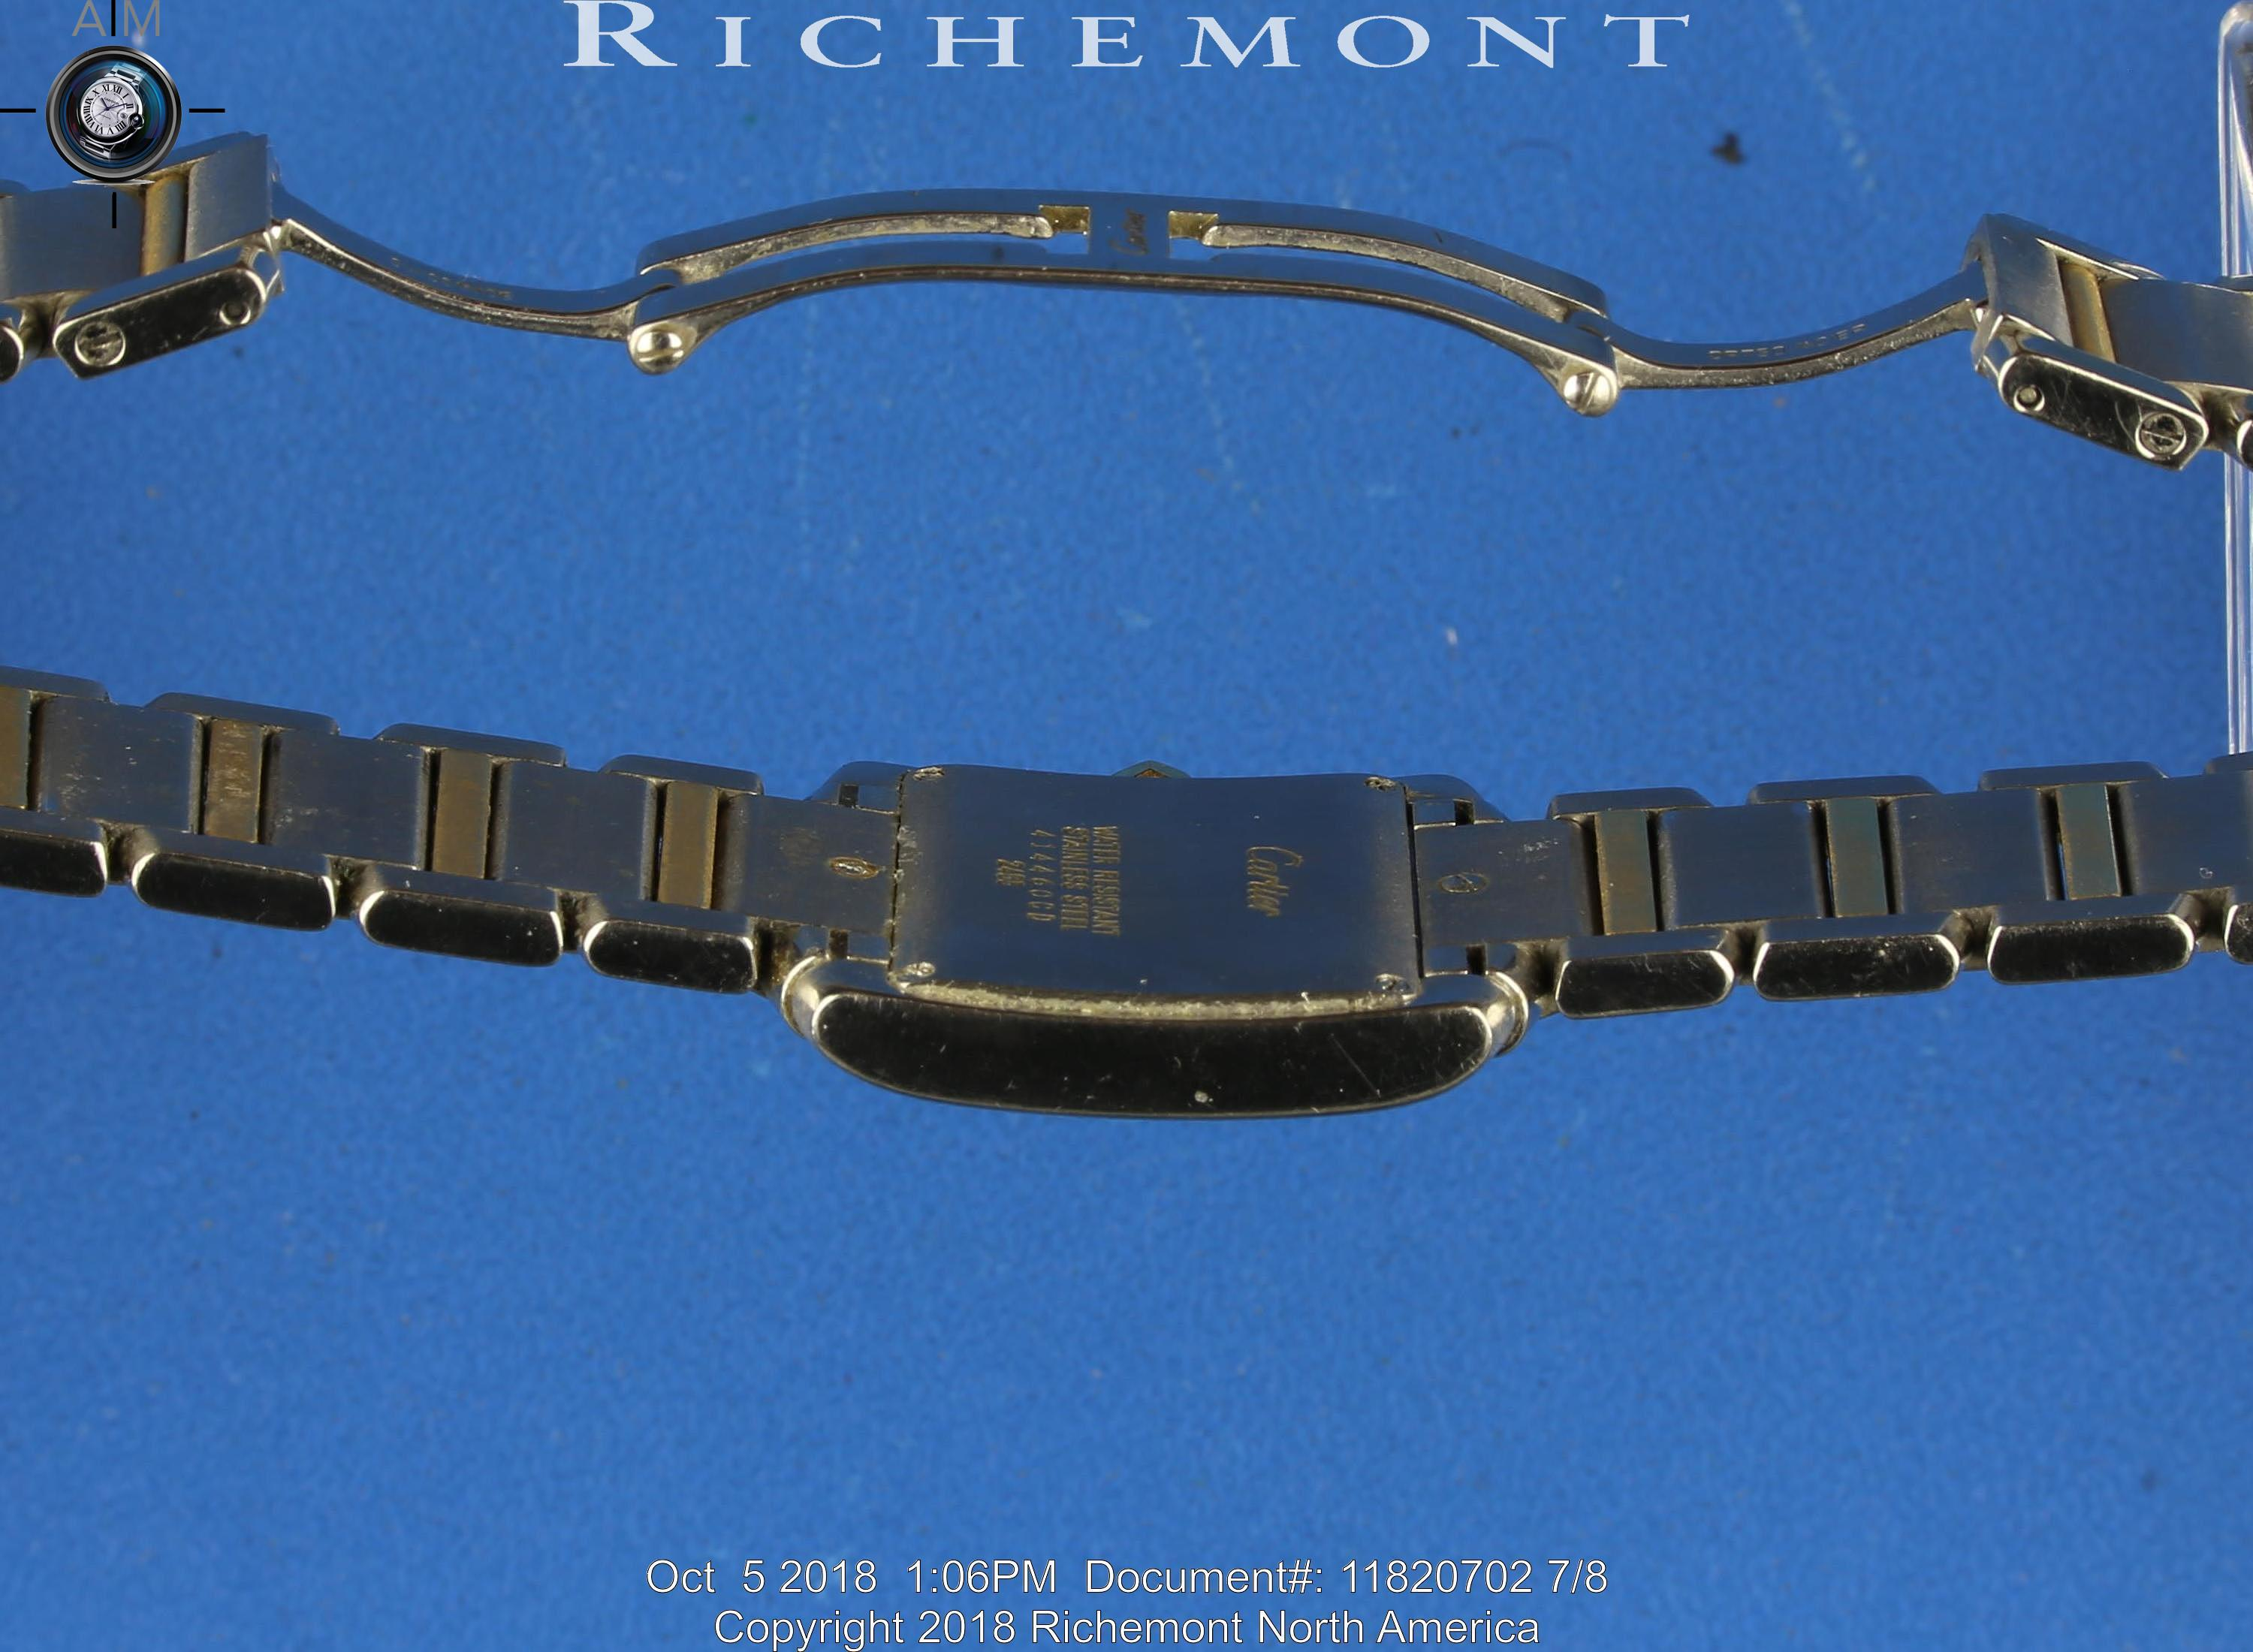watchback: (903, 767, 1410, 991)
